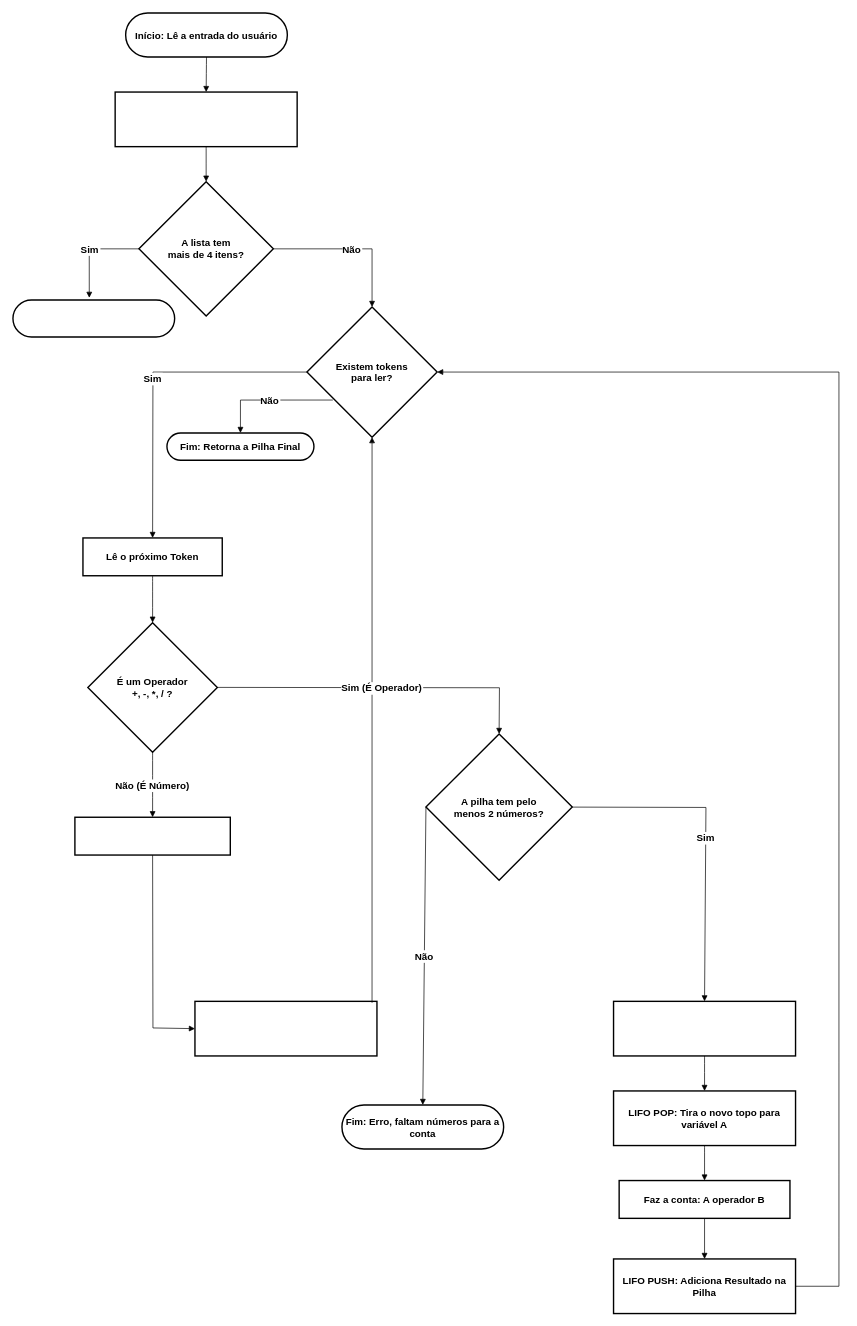
Image size: 857x1326. Some labels were removed from this diagram. The shapes that lost their labels are listed below. From the top down, each one's centre as x and y in pixels, then its label:
At pixel 206 119: "Separa o texto em uma Lista de Tokens".
At pixel 93 318: "Fim: Mostra erro de limite excedido".
At pixel 152 835: "Converte para Número".
At pixel 285 1028: "LIFO PUSH: Adiciona ao topo da Pilha".
At pixel 704 1028: "LIFO POP: Tira o topo para variável B".
